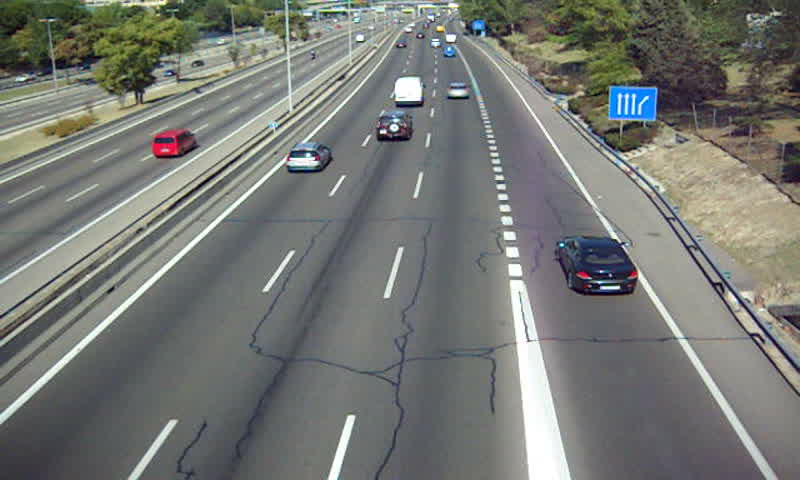car: (556, 236, 640, 296), (286, 142, 332, 172), (376, 110, 414, 140), (445, 81, 472, 99)
van: (393, 77, 425, 108)
